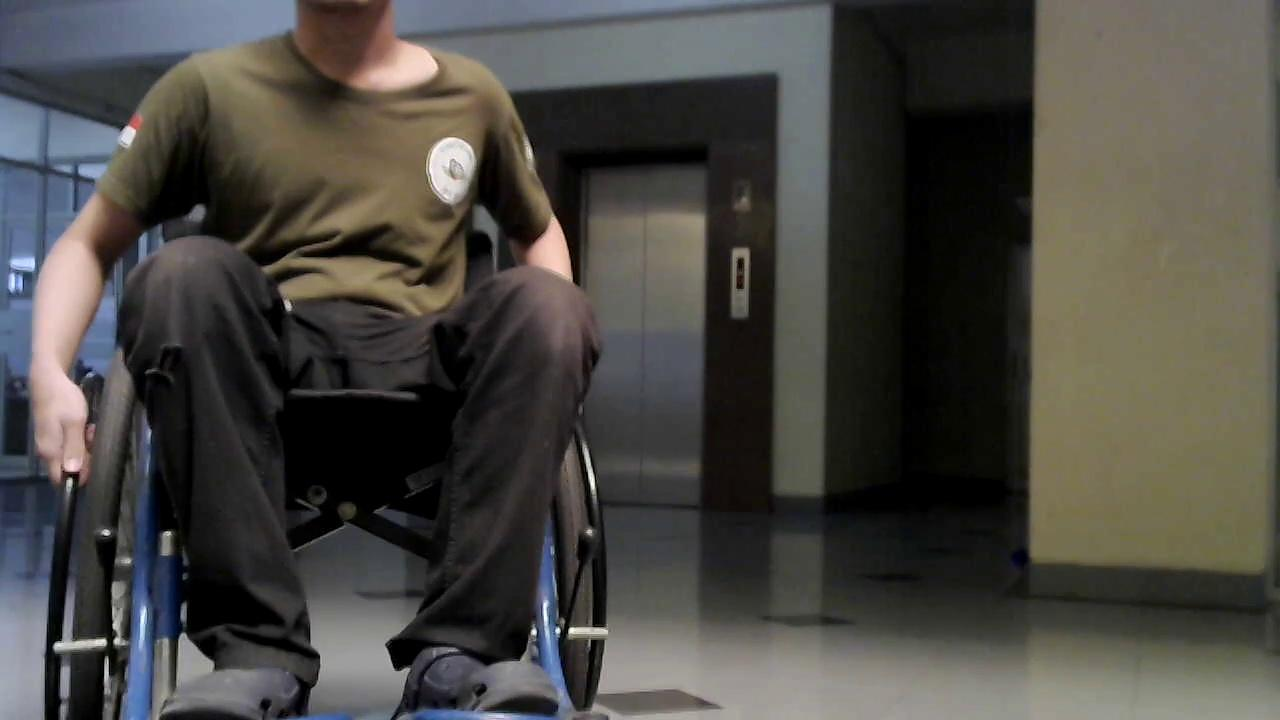person: (27, 5, 603, 715)
wheelchair: (26, 156, 652, 720)
